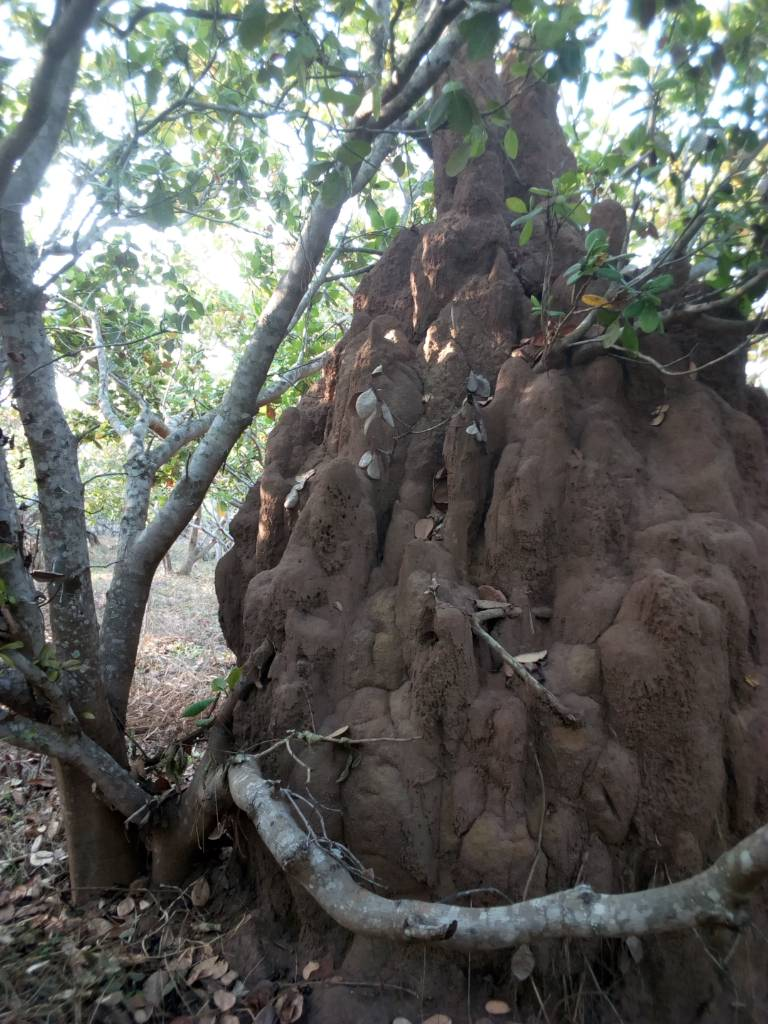Termites: (335, 319, 749, 835), (247, 460, 319, 725)
